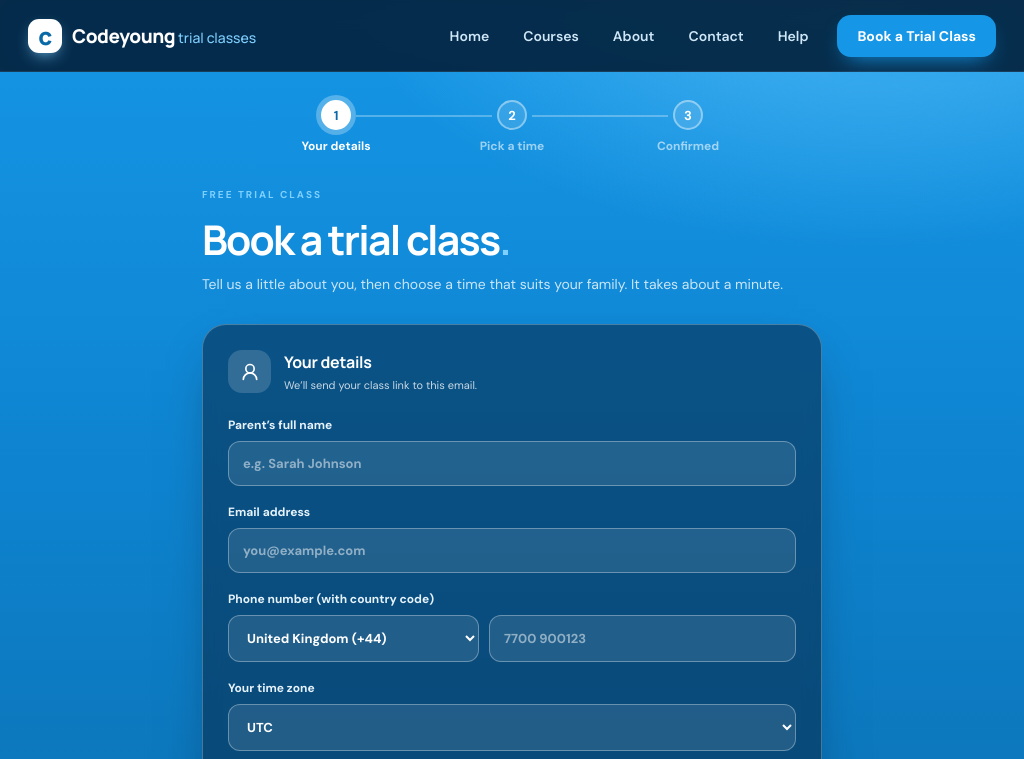
Test: home page and navigation › Home link returns to the landing page from the booking form
Click the link "Home": (469,36) x1=450 y1=26 x2=489 y2=44
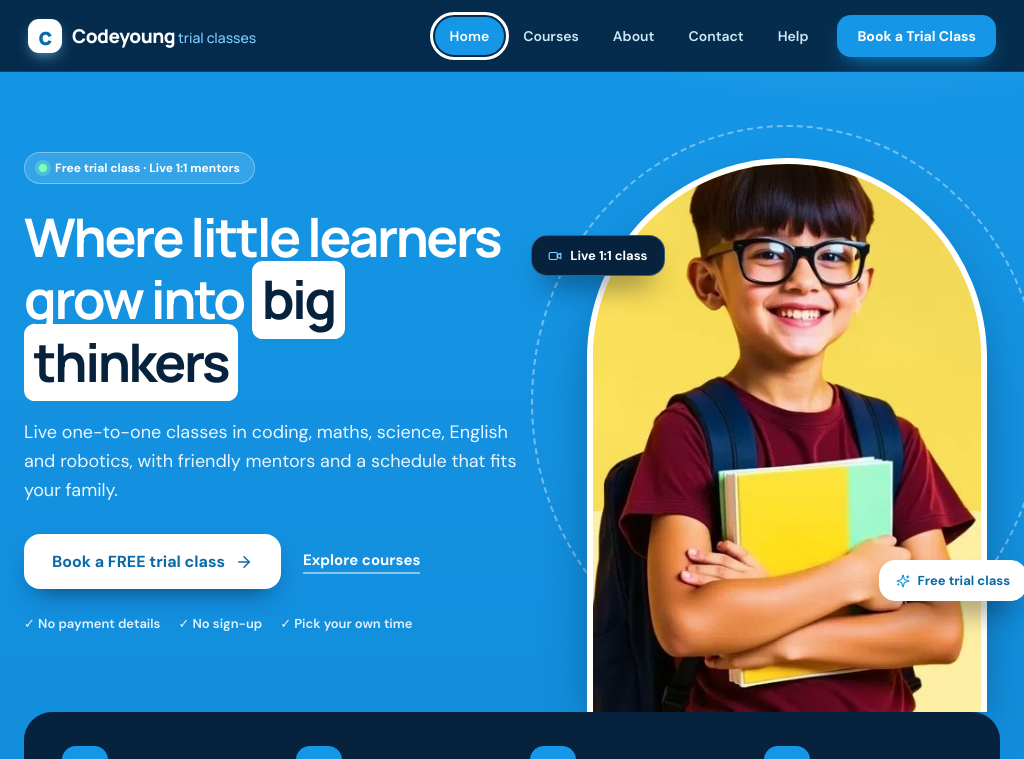
Result: the heading shows "little learners grow into big thinkers" at x1=24 y1=206 x2=544 y2=394
